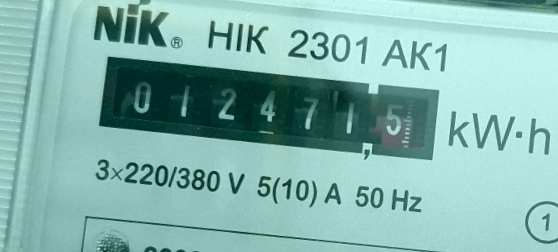0: (128, 76, 156, 115)
1: (177, 81, 193, 118), (342, 98, 357, 135)
2: (215, 83, 240, 122)
4: (257, 85, 280, 124)
5: (381, 98, 407, 138)
7: (295, 91, 321, 132)
screen: (87, 37, 454, 178)
